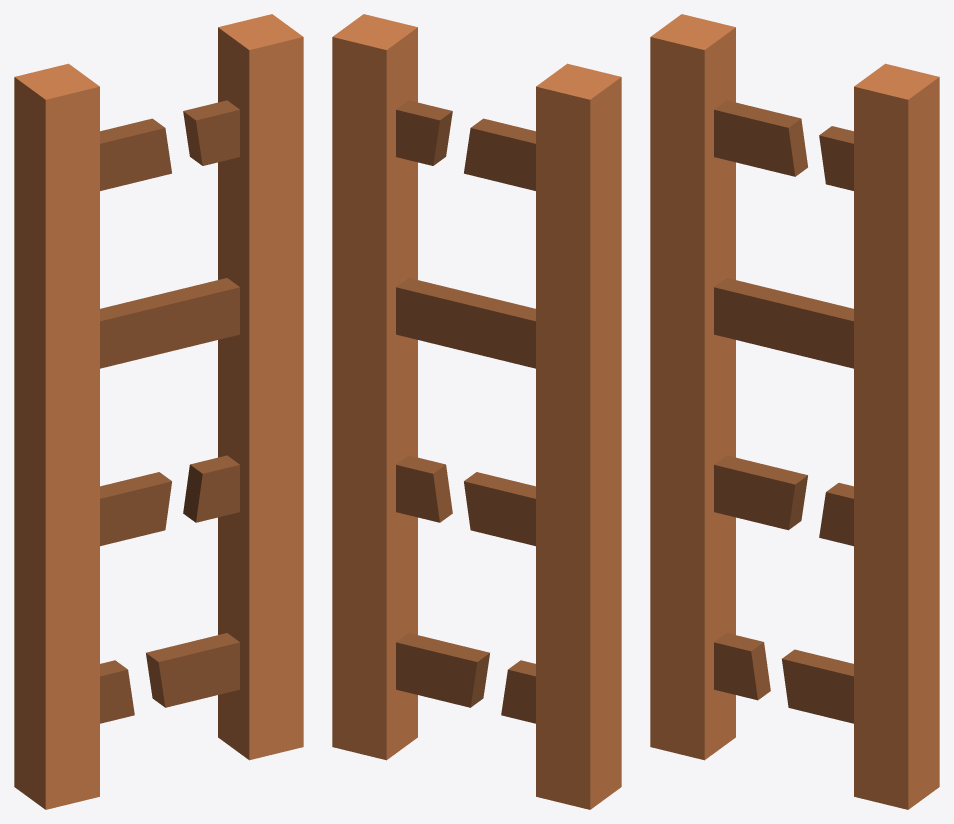
Rendered from ladderBroken.obj.
The picture shows the model from 3 angles, left to right: view 1: azimuth 30°, elevation 25°; view 2: azimuth 150°, elevation 25°; view 3: azimuth 330°, elevation 25°; orthographic projection.
Parts seen in each view (by area): view 1: ladderBroken; view 2: ladderBroken; view 3: ladderBroken.
Boxes of the visible parts, left/top/right/bottom form: ladderBroken: left=14, top=14, right=303, bottom=809; ladderBroken: left=332, top=14, right=621, bottom=809; ladderBroken: left=650, top=14, right=939, bottom=809.
Size of the model in its own units: 0.38 by 1 by 0.08.
